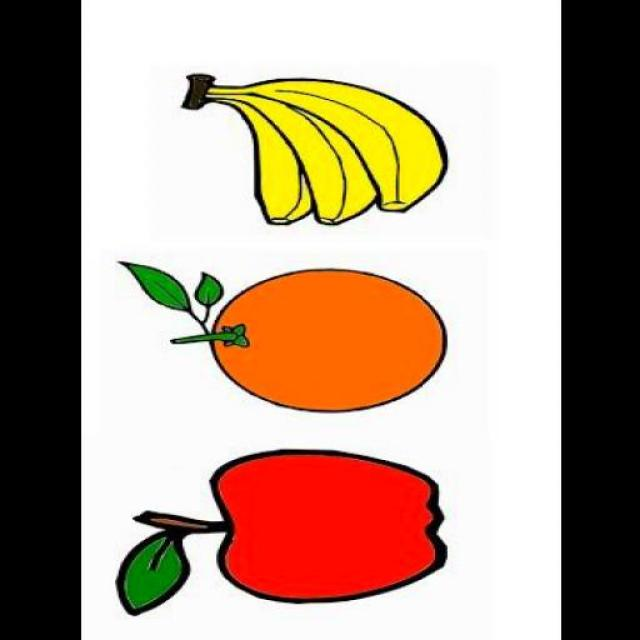0: (112, 450, 449, 616)
1: (183, 74, 448, 213), (184, 93, 314, 223)
2: (115, 262, 442, 412)
Banana: (185, 87, 379, 221)
